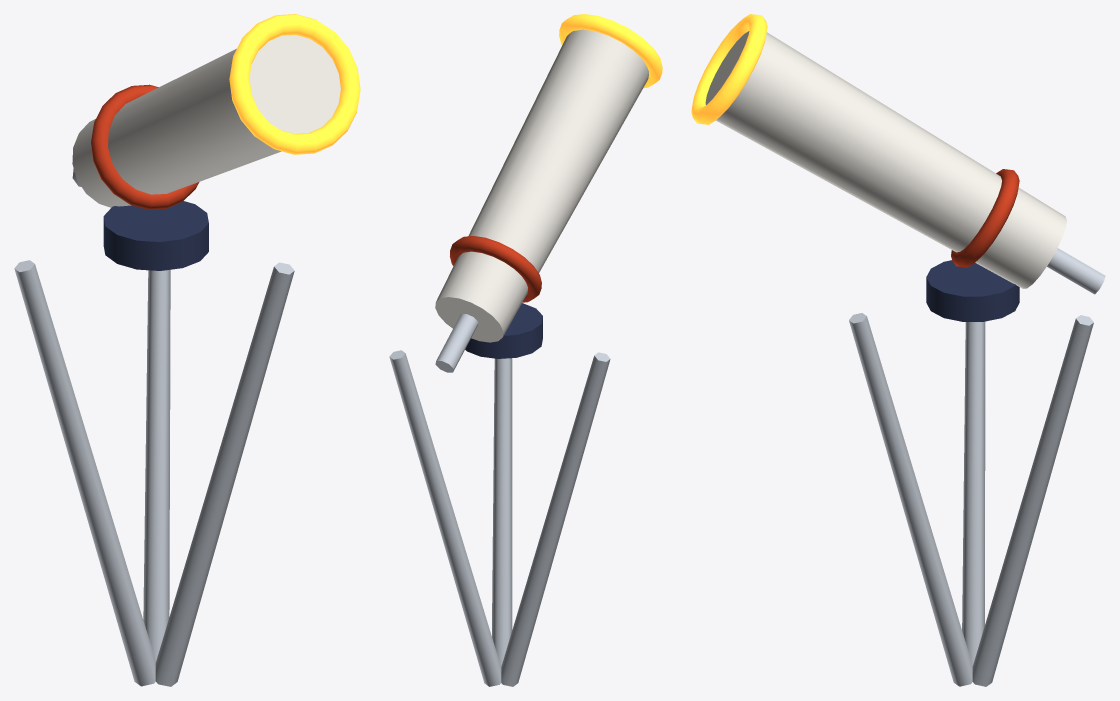
File: space_telescope.glb
3 views of the same model, side by side, from view 1: azimuth 30°, elevation 25°; view 2: azimuth 150°, elevation 25°; view 3: azimuth 270°, elevation 25° (orthographic). The views are drawn at different scales.
Bounding box in the file's own units: 0.462 × 1.56 × 0.8862.
